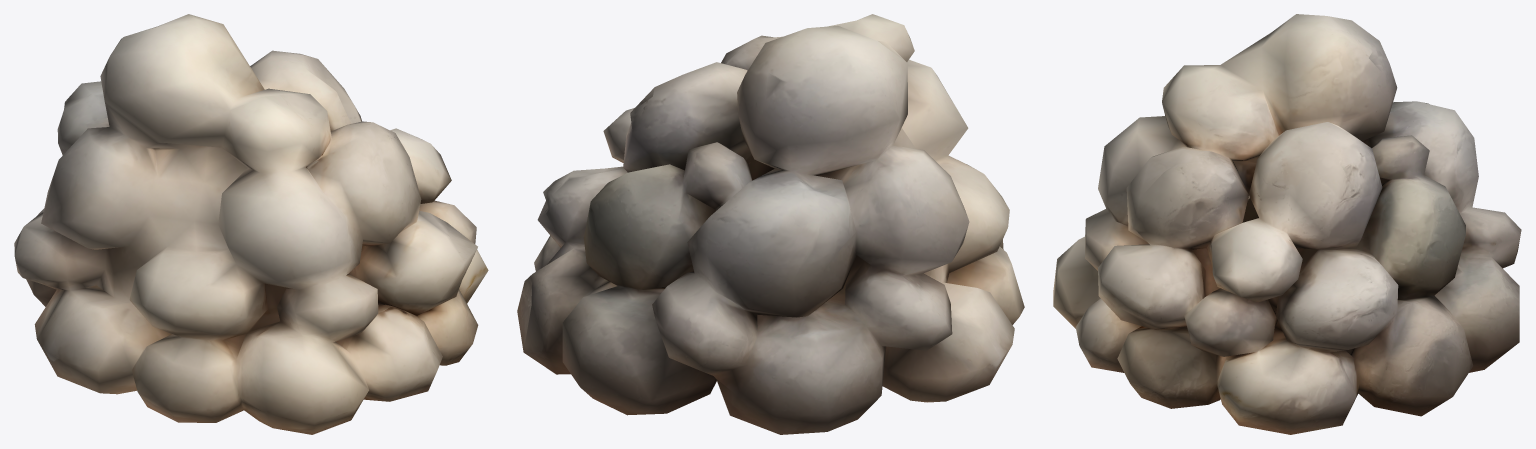
3 renders of one model, left to right at view 1: azimuth 30°, elevation 25°; view 2: azimuth 150°, elevation 25°; view 3: azimuth 270°, elevation 25°, orthographic. The views are drawn at different scales.
Visible parts, largest first — view 1: tripo_node_90f6c3a4-4d72-4859-a048-8db568a717e3; view 2: tripo_node_90f6c3a4-4d72-4859-a048-8db568a717e3; view 3: tripo_node_90f6c3a4-4d72-4859-a048-8db568a717e3.
Part boxes in pixels (left/top/right/bottom): tripo_node_90f6c3a4-4d72-4859-a048-8db568a717e3: left=14, top=14, right=488, bottom=434; tripo_node_90f6c3a4-4d72-4859-a048-8db568a717e3: left=517, top=14, right=1024, bottom=434; tripo_node_90f6c3a4-4d72-4859-a048-8db568a717e3: left=1053, top=14, right=1521, bottom=434.
Bounding box in the file's own units: 0.3433 × 0.25 × 0.3517.
Materials: 1 (1 with a texture image).
